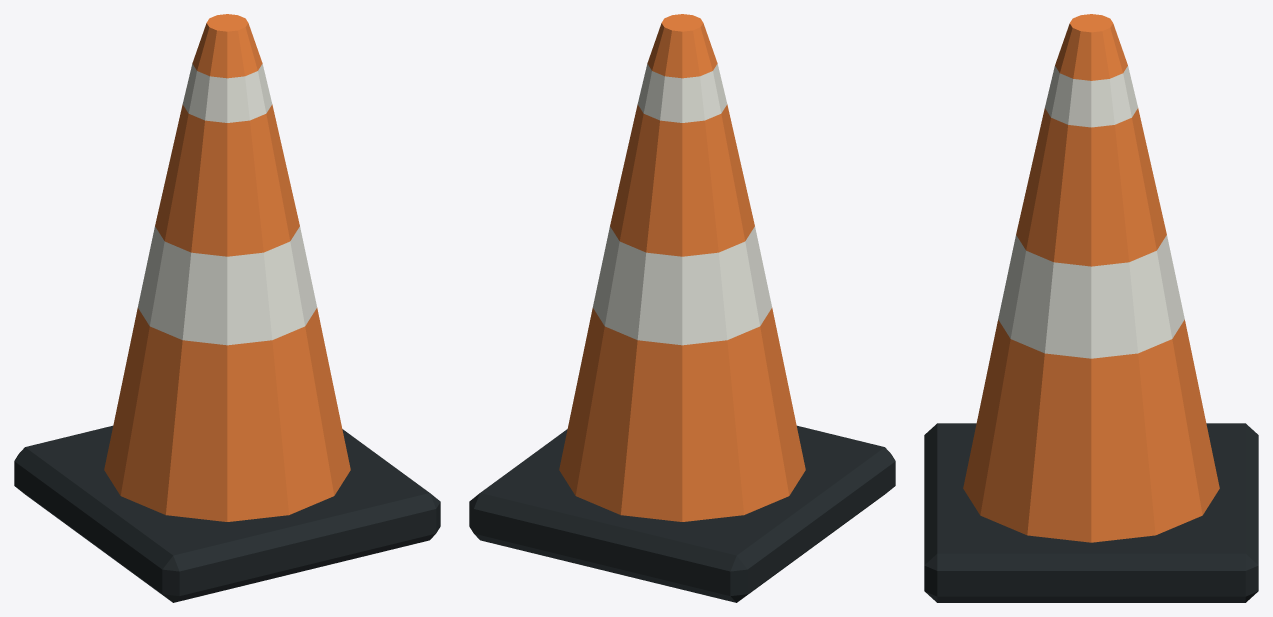
Rendered from Traffic_Cone_Clean.glb.
The picture shows the model from 3 angles, left to right: view 1: azimuth 30°, elevation 25°; view 2: azimuth 150°, elevation 25°; view 3: azimuth 270°, elevation 25°; orthographic projection. The views are drawn at different scales.
Visible parts, largest first — view 1: Traffic_Cone_Clean; view 2: Traffic_Cone_Clean; view 3: Traffic_Cone_Clean.
Boxes of the visible parts, x1=… form: Traffic_Cone_Clean: x1=14, y1=14, x2=440, y2=602; Traffic_Cone_Clean: x1=469, y1=14, x2=895, y2=602; Traffic_Cone_Clean: x1=924, y1=14, x2=1258, y2=602.
Bounding box in the file's own units: 0.43 × 0.73 × 0.43.
